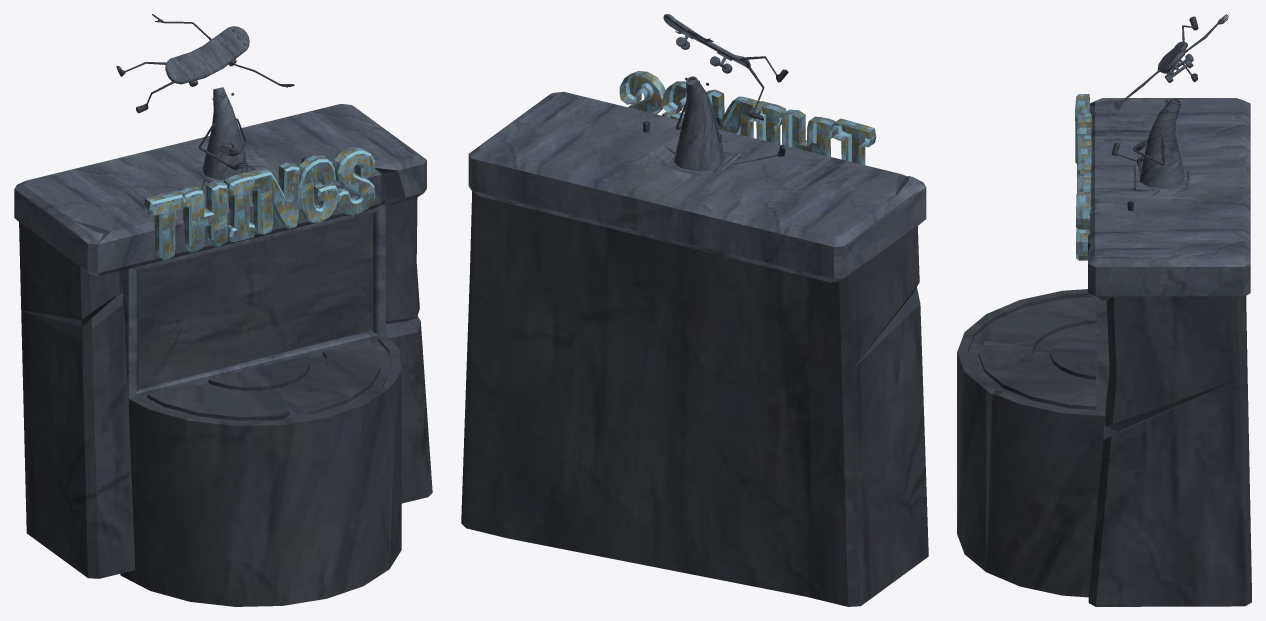
The model's file is stand-things01.glb.
3 renders of one model, left to right at view 1: azimuth 30°, elevation 25°; view 2: azimuth 150°, elevation 25°; view 3: azimuth 270°, elevation 25°, orthographic. The views are drawn at different scales.
Visible parts, largest first — view 1: StandThings01; view 2: StandThings01; view 3: StandThings01.
Part boxes in pixels (x1,y1,x2,y2): StandThings01: (14, 14, 432, 606); StandThings01: (461, 14, 928, 606); StandThings01: (957, 14, 1251, 606).
Size of the model in its own units: 11.12 by 15.26 by 8.14.
1 material, 1 textured.
